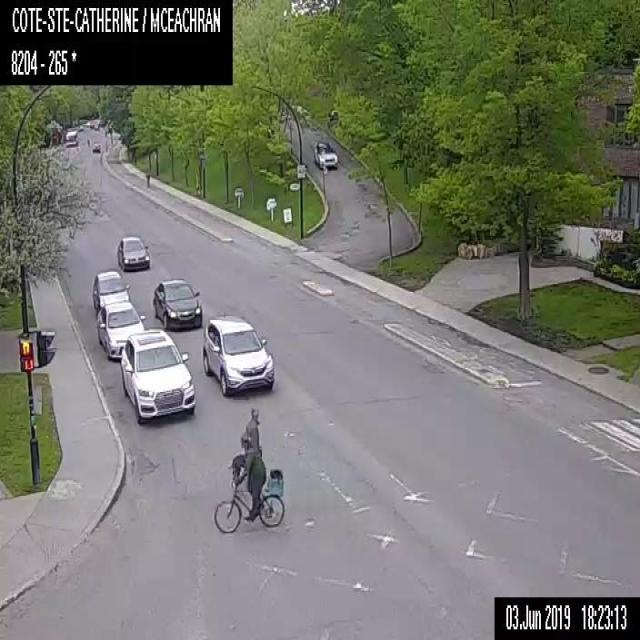bus: (65, 129, 77, 146)
cyclist: (212, 434, 284, 534)
pedestrian: (244, 404, 262, 456)
vehicle: (119, 328, 194, 427), (202, 314, 274, 396), (96, 300, 145, 358), (152, 277, 202, 329), (92, 268, 130, 311), (116, 235, 149, 271), (313, 140, 338, 168), (92, 143, 101, 152)
